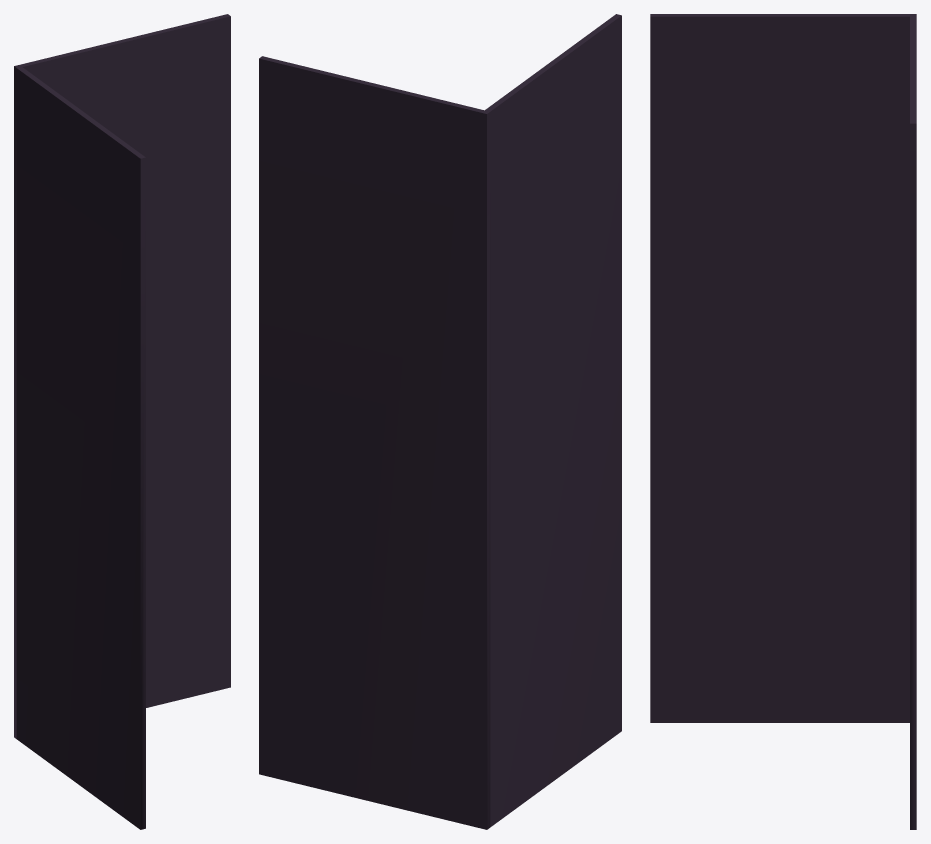
The model's file is Wall_Corner_Infbx.fbx.
3 views of the same model, side by side, from view 1: azimuth 30°, elevation 25°; view 2: azimuth 150°, elevation 25°; view 3: azimuth 270°, elevation 25° (orthographic). The views are drawn at different scales.
Parts seen in each view (by area): view 1: polySurface2; view 2: polySurface2; view 3: polySurface2.
Part boxes in pixels (x1,y1,x2,y2): polySurface2: [14, 14, 230, 829]; polySurface2: [259, 14, 621, 829]; polySurface2: [650, 14, 916, 829].
Size of the model in its own units: 1 by 3 by 1.02.
Materials: 1 (1 with a texture image).
